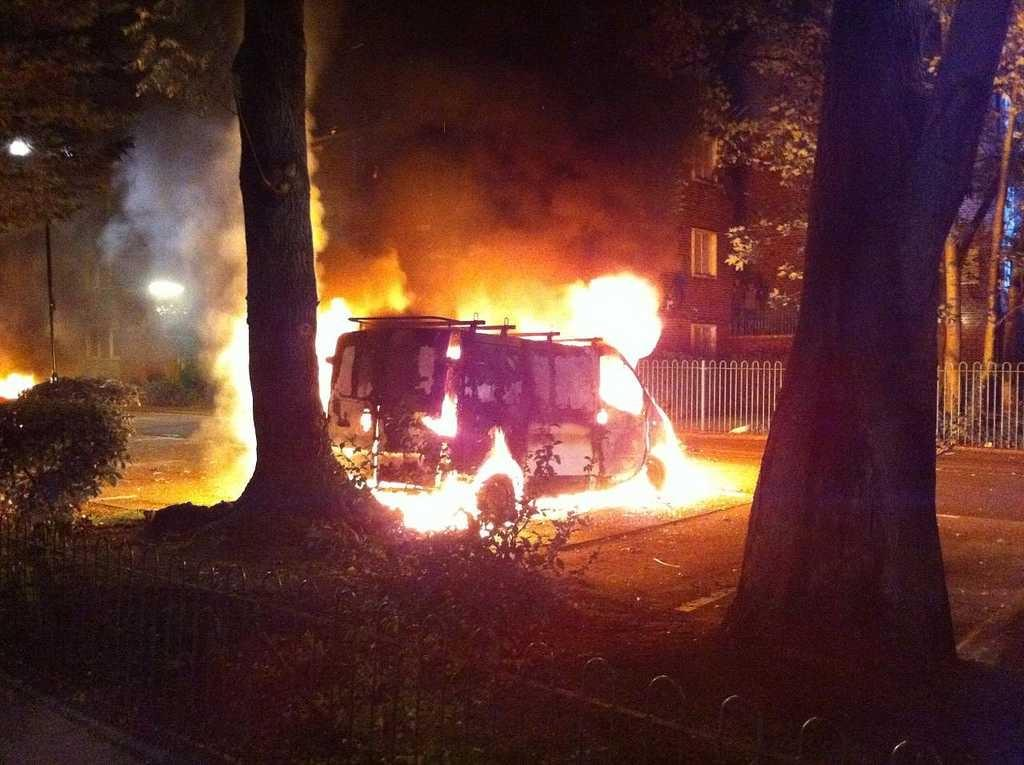fire: (324, 261, 680, 355), (336, 451, 744, 511), (205, 299, 266, 488), (219, 307, 237, 318)
smoke: (112, 118, 237, 271)
